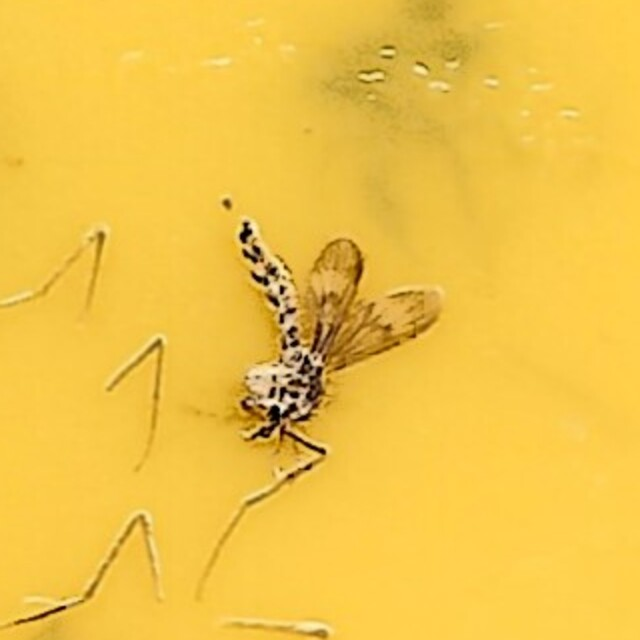Nematocera: (200, 189, 440, 451)
